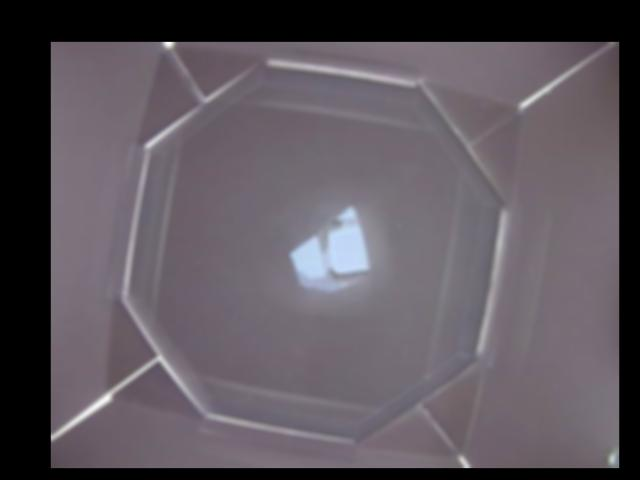China: (287, 208, 368, 293)
